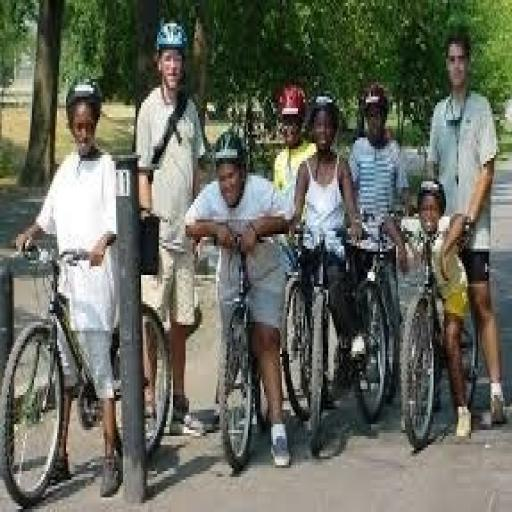cycling: (12, 73, 125, 500), (184, 126, 296, 471), (424, 26, 508, 436), (134, 18, 210, 442), (287, 91, 366, 389), (344, 79, 414, 398), (398, 176, 478, 444)
